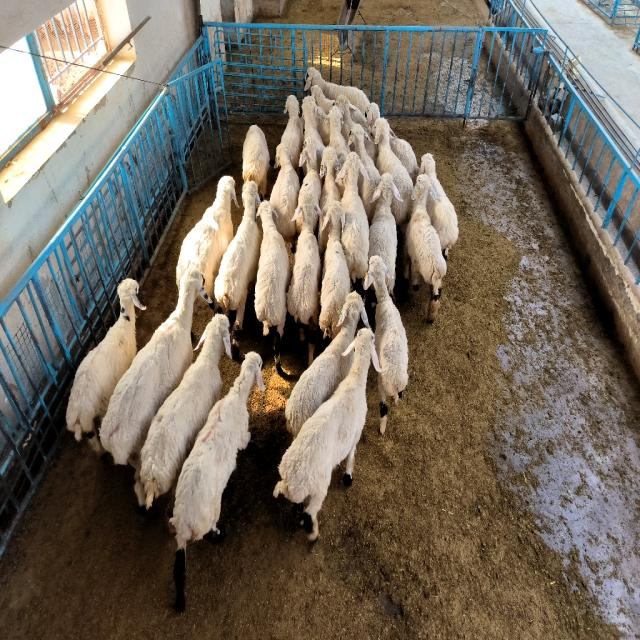sheep: (101, 268, 210, 504), (170, 352, 265, 612), (274, 328, 381, 541), (140, 313, 231, 508), (66, 278, 146, 455), (285, 292, 369, 438), (214, 182, 261, 360), (364, 255, 409, 432), (176, 175, 239, 298), (255, 202, 290, 374), (405, 175, 446, 321), (288, 183, 321, 364), (372, 118, 414, 233), (319, 200, 351, 338), (336, 152, 369, 283), (420, 153, 459, 259), (369, 173, 401, 292), (349, 123, 381, 222), (306, 67, 370, 114), (270, 145, 300, 244), (242, 125, 270, 196), (281, 95, 304, 171), (301, 97, 326, 161), (325, 105, 350, 166), (319, 147, 341, 216), (391, 130, 419, 182), (300, 140, 321, 202), (366, 102, 380, 131), (319, 222, 329, 259)
